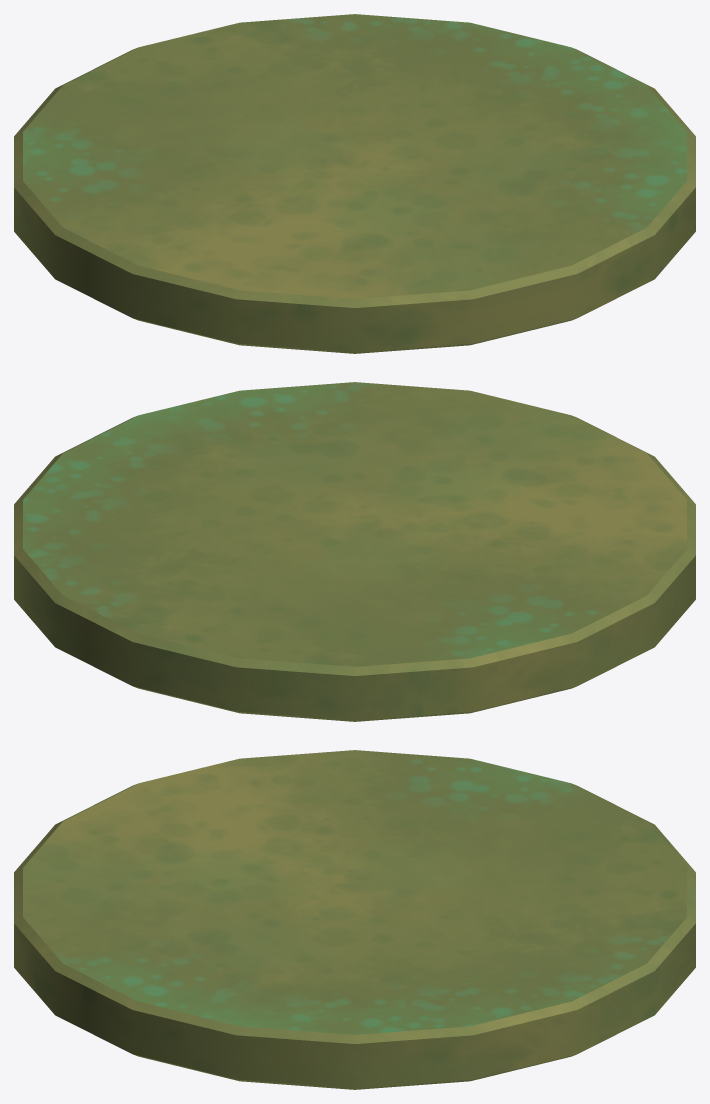
Rendered from Coin.FBX.
3 renders of one model, top to bottom at view 1: azimuth 30°, elevation 25°; view 2: azimuth 150°, elevation 25°; view 3: azimuth 270°, elevation 25°, orthographic.
Visible parts, largest first — view 1: Cylinder001; view 2: Cylinder001; view 3: Cylinder001.
Boxes of the visible parts, left/top/right/bottom form: Cylinder001: left=14, top=14, right=695, bottom=353; Cylinder001: left=14, top=382, right=695, bottom=721; Cylinder001: left=14, top=750, right=695, bottom=1089.
Bounding box in the file's own units: 11.45 × 1 × 11.28.
1 material, 1 textured.
